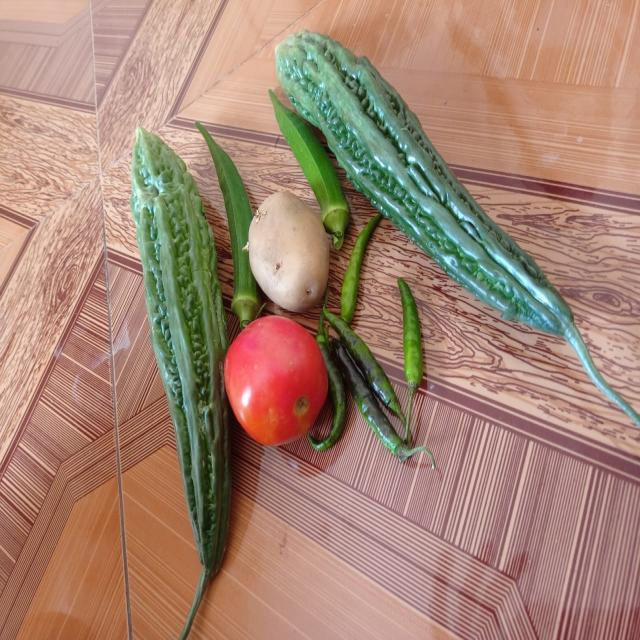Organik: (134, 138, 234, 575), (228, 313, 326, 447), (329, 321, 417, 468), (247, 187, 331, 309), (210, 140, 262, 321), (402, 282, 422, 401)
